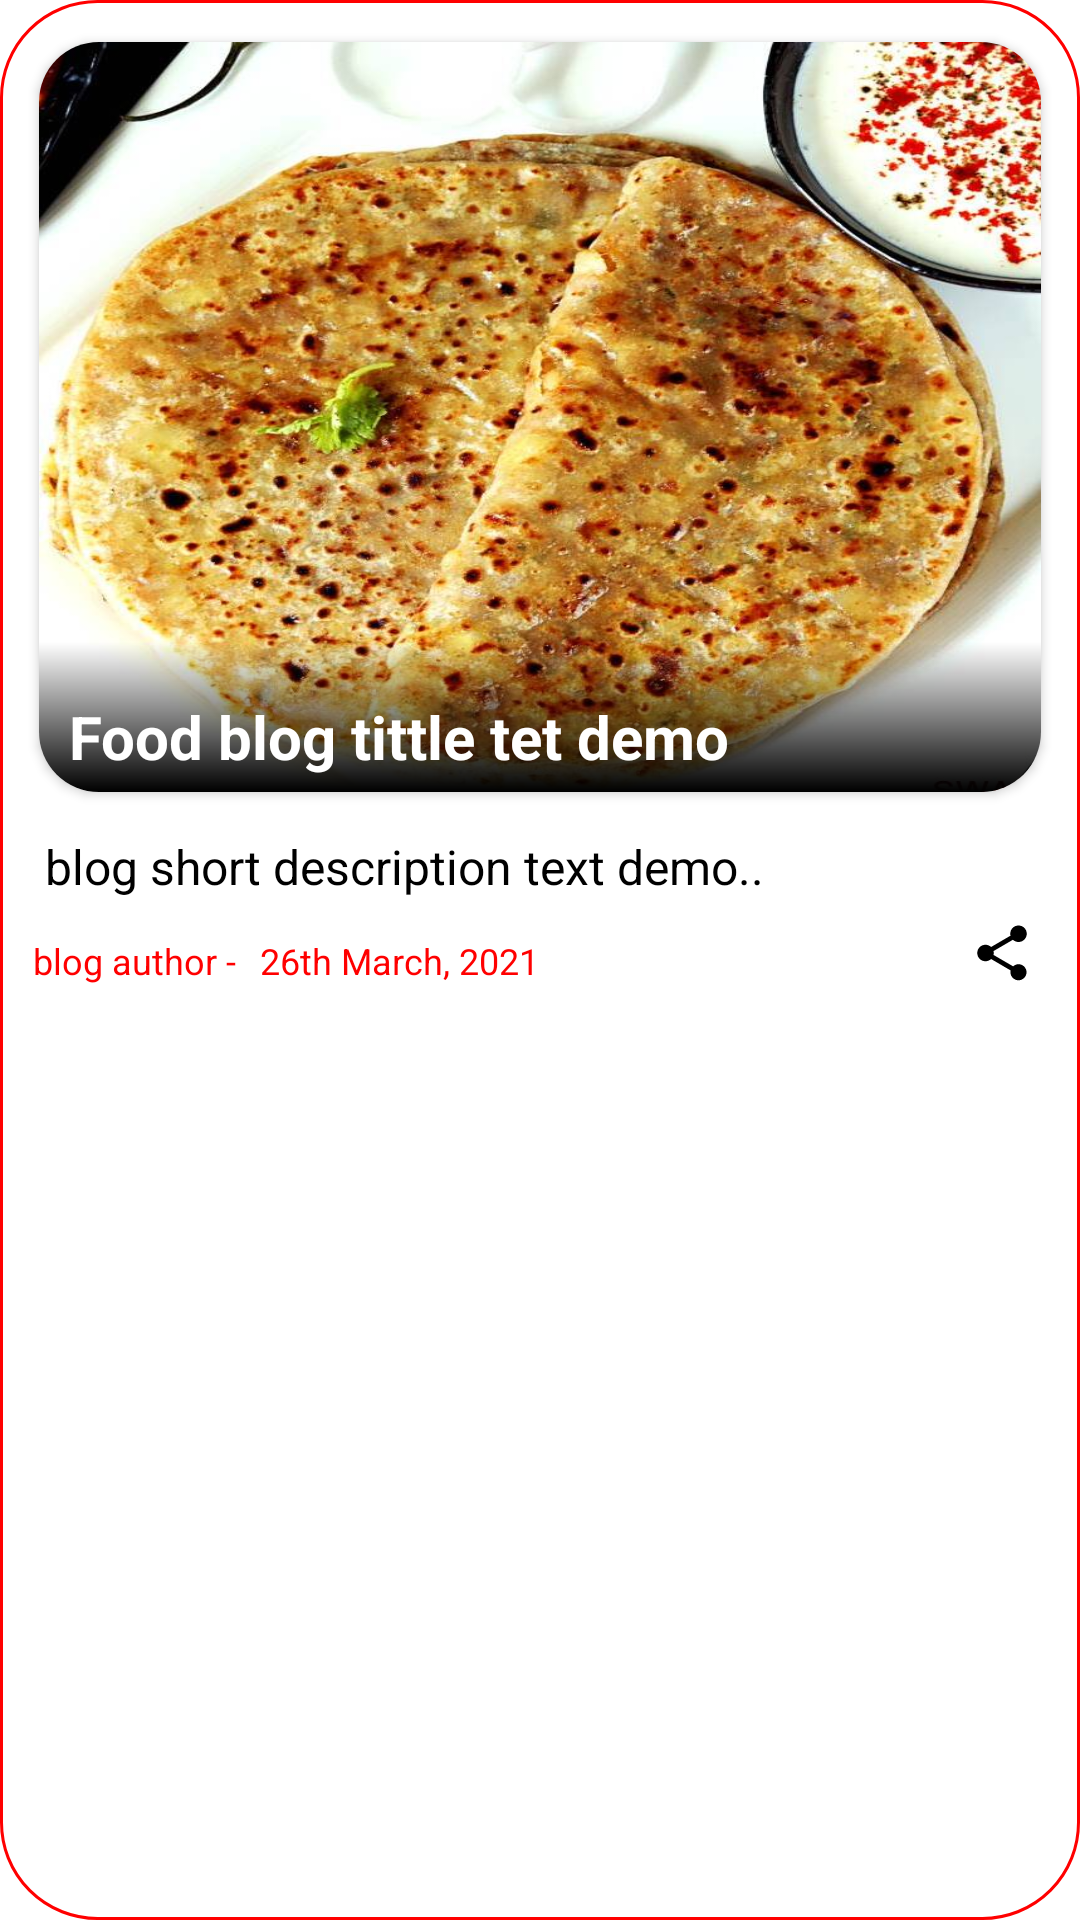

Where icons sit on this 1080px x 1920px app screen, as (x1, y1, x2, y2):
share: (977, 925, 1027, 981)
